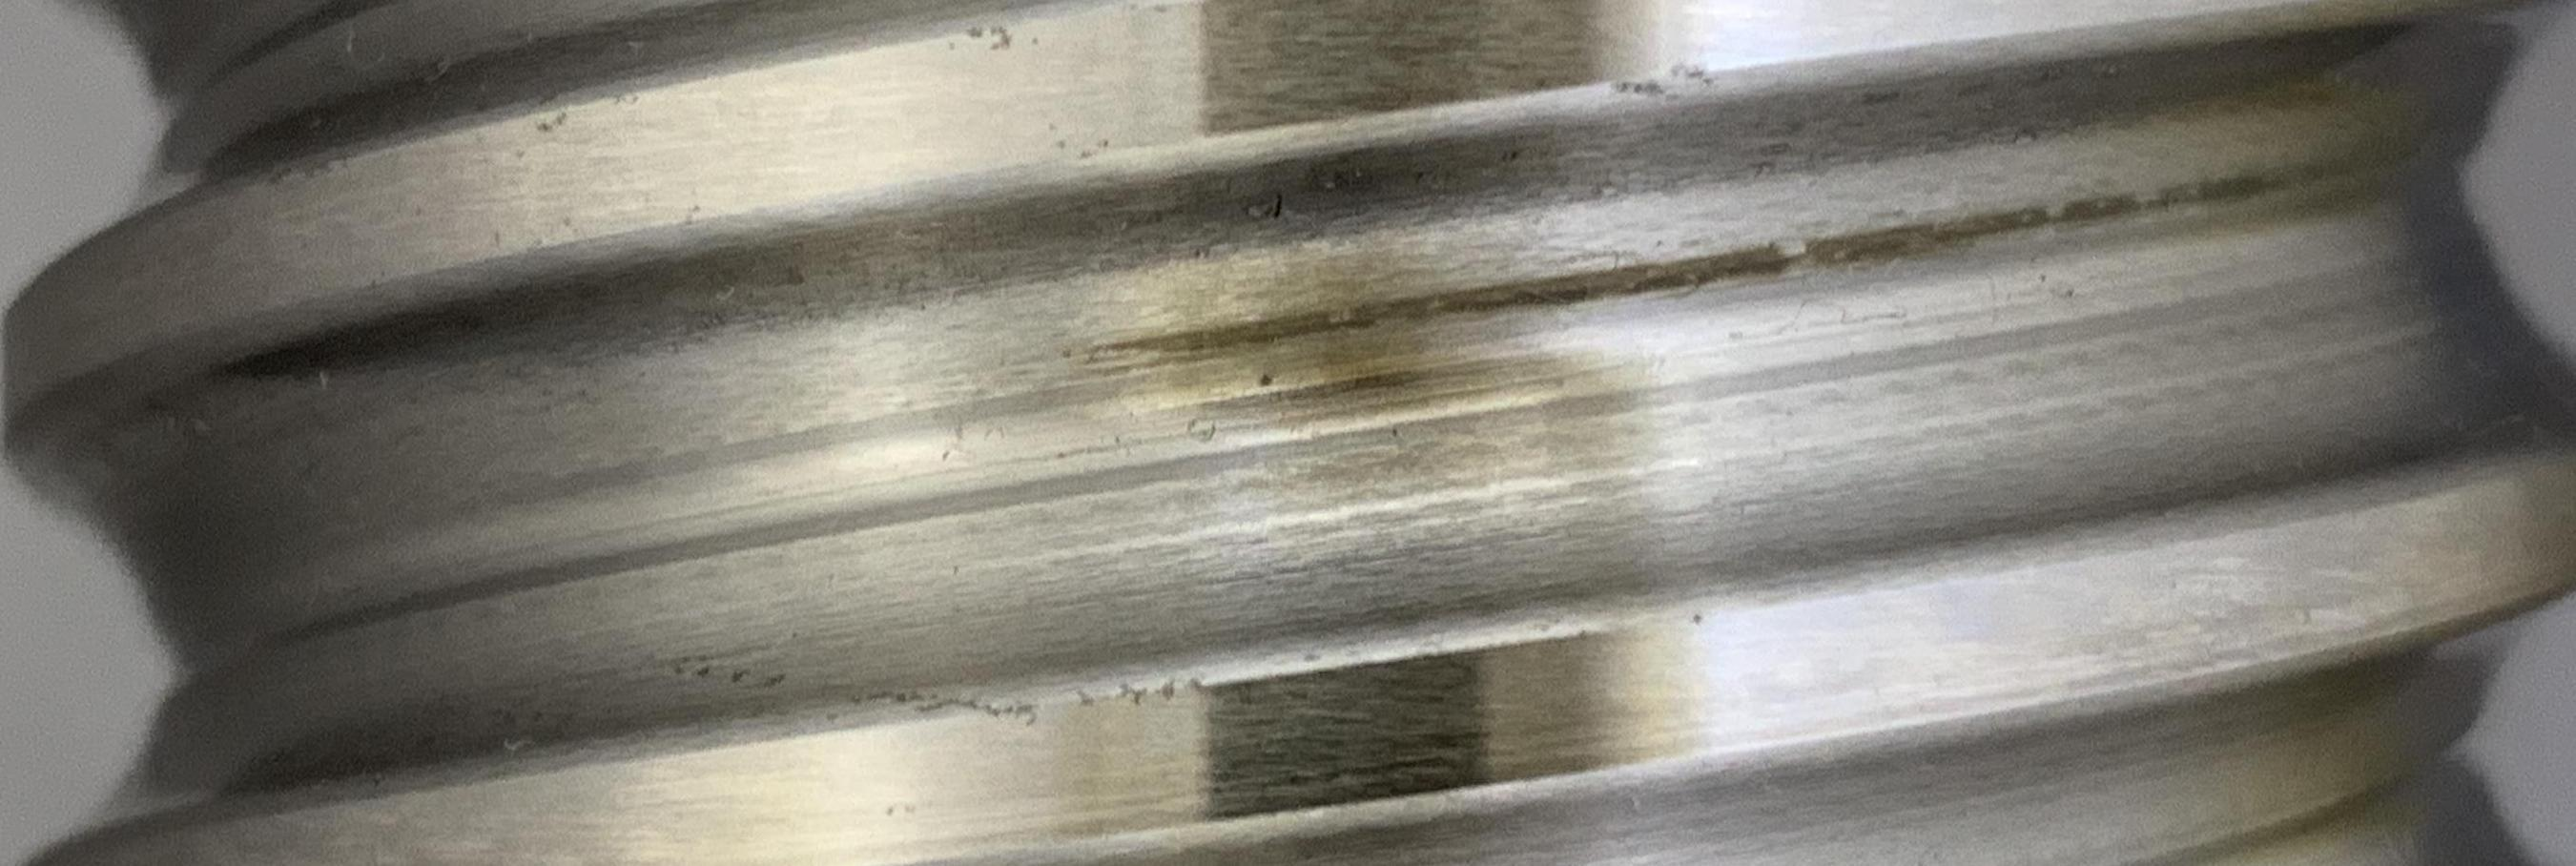pitting: (1244, 194, 1281, 219)
